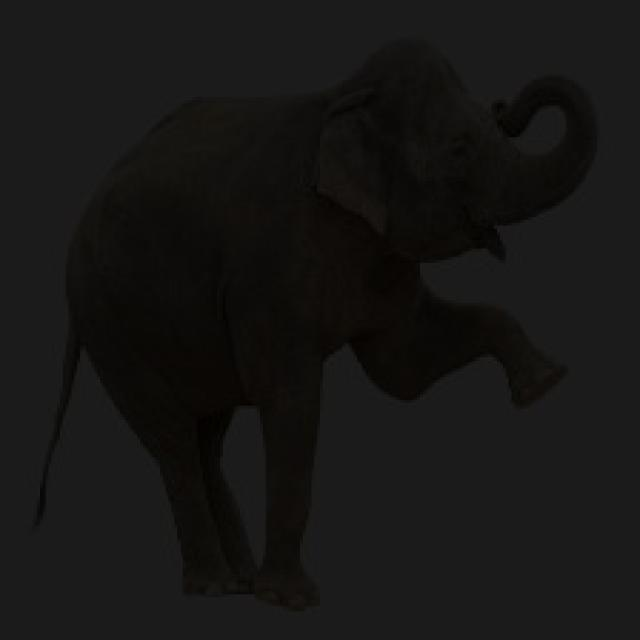animal: (52, 120, 595, 610)
